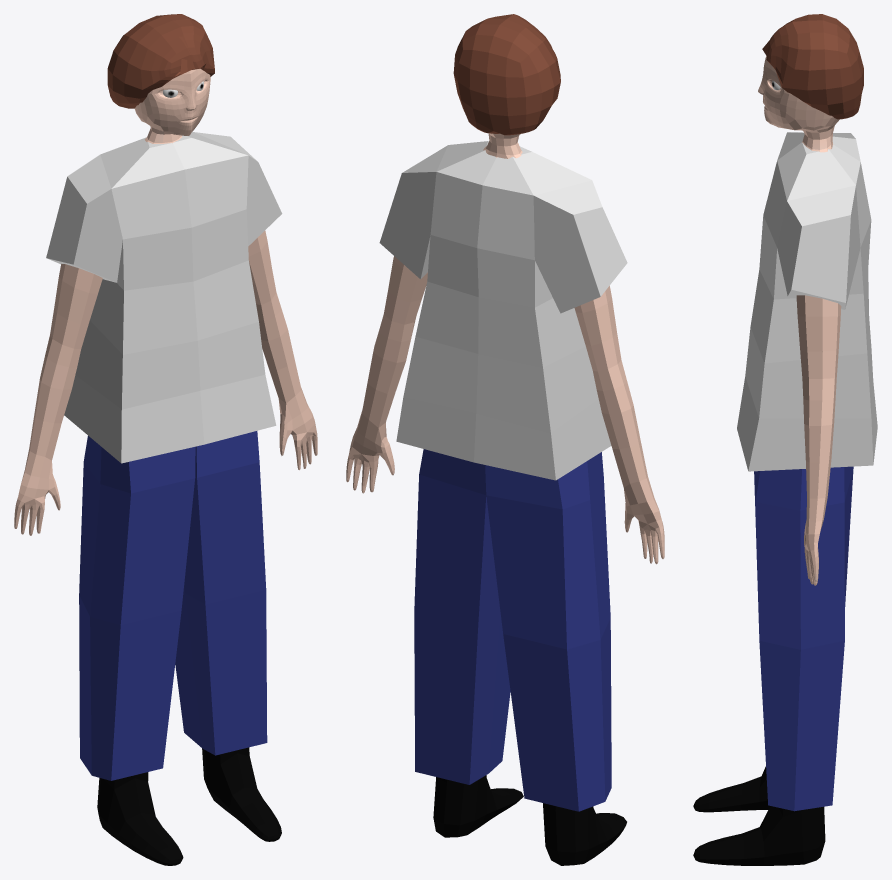
The model's file is male4.fbx.
The picture shows the model from 3 angles, left to right: view 1: azimuth 30°, elevation 25°; view 2: azimuth 150°, elevation 25°; view 3: azimuth 270°, elevation 25°; orthographic projection. The views are drawn at different scales.
Parts seen in each view (by area): view 1: t-shirt_male, pants_male, body, hat; view 2: pants_male, t-shirt_male, body, hat; view 3: t-shirt_male, pants_male, body, hat.
Part boxes in pixels (left/top/right/bottom): t-shirt_male: left=46, top=132, right=282, bottom=463; pants_male: left=79, top=431, right=267, bottom=780; body: left=14, top=68, right=317, bottom=865; hat: left=107, top=14, right=214, bottom=108; pants_male: left=414, top=449, right=611, bottom=811; t-shirt_male: left=379, top=141, right=627, bottom=480; body: left=346, top=133, right=664, bottom=865; hat: left=453, top=14, right=560, bottom=135; t-shirt_male: left=737, top=132, right=877, bottom=471; pants_male: left=754, top=466, right=853, bottom=811; body: left=693, top=56, right=841, bottom=865; hat: left=762, top=14, right=863, bottom=119.
Size of the model in its own units: 320 by 801 by 164.
Materials: 4 (1 with a texture image).
